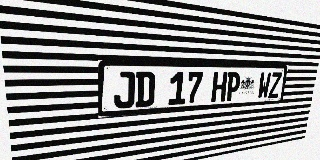1: (168, 72, 187, 105)
7: (185, 72, 203, 104)
D: (135, 72, 155, 107)
H: (211, 72, 228, 102)
J: (114, 71, 135, 109)
P: (225, 72, 241, 101)
W: (257, 72, 271, 99)
Z: (268, 72, 282, 98)
